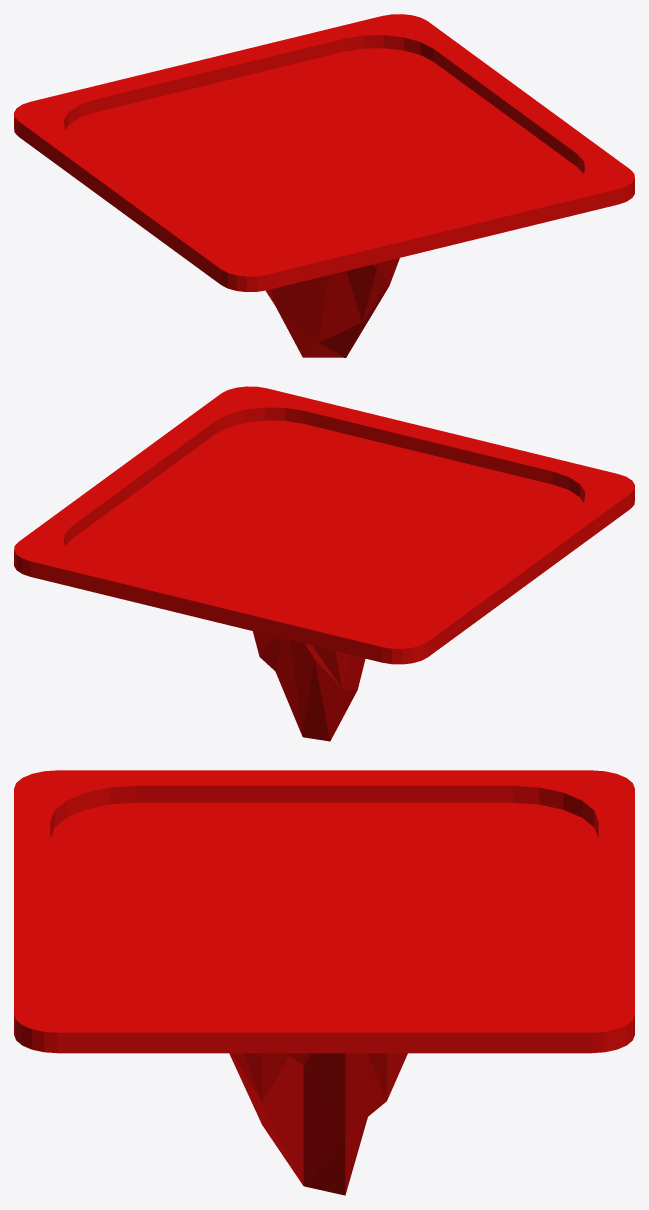
Rendered from Arena A.dae.
3 views of the same model, one above another, from view 1: azimuth 30°, elevation 25°; view 2: azimuth 150°, elevation 25°; view 3: azimuth 270°, elevation 25° (orthographic). The views are drawn at different scales.
Visible parts, largest first — view 1: Arena A; view 2: Arena A; view 3: Arena A.
Part boxes in pixels (<box>): Arena A: <box>14,14,634,357</box>; Arena A: <box>14,386,634,741</box>; Arena A: <box>14,770,634,1195</box>.
Size of the model in its own units: 97.68 by 97.68 by 49.51.
